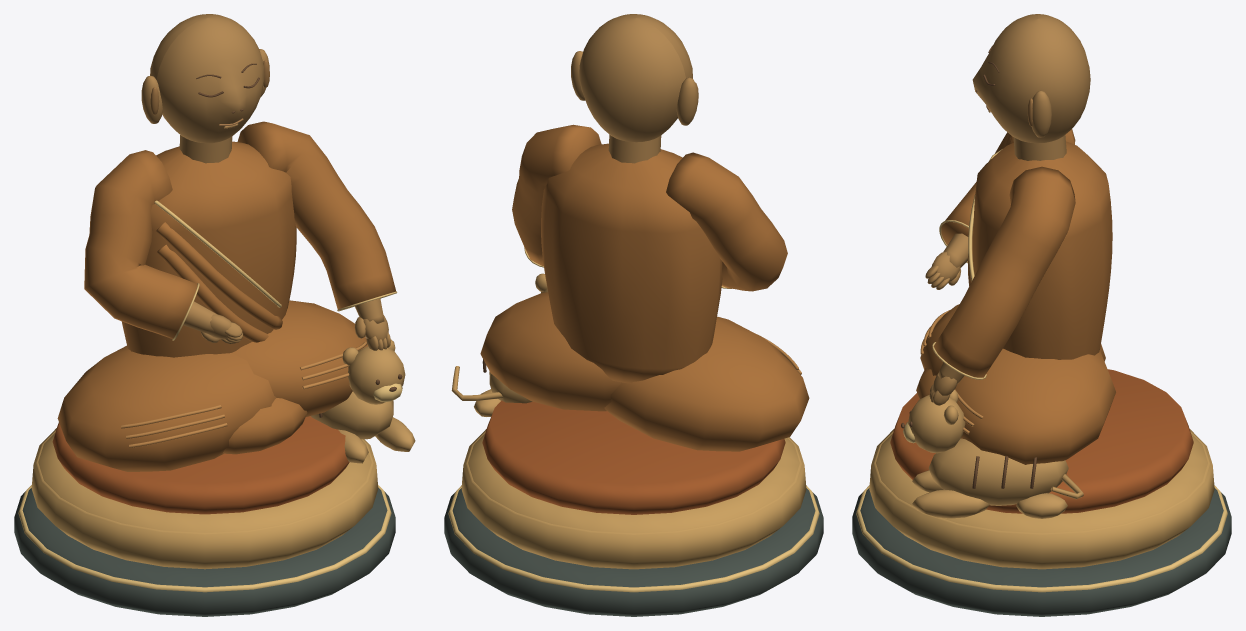
Rendered from arhat_02_lod1.glb.
3 renders of one model, left to right at view 1: azimuth 30°, elevation 25°; view 2: azimuth 150°, elevation 25°; view 3: azimuth 270°, elevation 25°, orthographic.
Visible parts, largest first — view 1: arhat_02_ArhatDrapery, arhat_02_AntiqueGold, arhat_02_CarvedPlinth, arhat_02_WarmBronze, arhat_02_SaffronDrapery, arhat_02_AnimalBronze, arhat_02_RaisedGoldBorders, arhat_02_DraperyFoldHighlights; view 2: arhat_02_ArhatDrapery, arhat_02_SaffronDrapery, arhat_02_AntiqueGold, arhat_02_CarvedPlinth, arhat_02_WarmBronze, arhat_02_RaisedGoldBorders, arhat_02_AnimalBronze; view 3: arhat_02_ArhatDrapery, arhat_02_AntiqueGold, arhat_02_CarvedPlinth, arhat_02_WarmBronze, arhat_02_SaffronDrapery, arhat_02_AnimalBronze, arhat_02_RaisedGoldBorders, arhat_02_SculptedCreases.
Boxes of the visible parts, <box> form: arhat_02_ArhatDrapery: <box>57,121,396,471</box>; arhat_02_AntiqueGold: <box>31,428,378,569</box>; arhat_02_CarvedPlinth: <box>14,488,395,616</box>; arhat_02_WarmBronze: <box>141,14,390,350</box>; arhat_02_SaffronDrapery: <box>52,416,349,514</box>; arhat_02_AnimalBronze: <box>311,339,415,463</box>; arhat_02_RaisedGoldBorders: <box>18,200,402,592</box>; arhat_02_DraperyFoldHighlights: <box>121,341,367,447</box>; arhat_02_ArhatDrapery: <box>480,124,809,451</box>; arhat_02_SaffronDrapery: <box>482,400,785,514</box>; arhat_02_AntiqueGold: <box>461,429,806,569</box>; arhat_02_CarvedPlinth: <box>444,488,823,616</box>; arhat_02_WarmBronze: <box>571,14,698,163</box>; arhat_02_RaisedGoldBorders: <box>448,247,819,592</box>; arhat_02_AnimalBronze: <box>451,273,547,416</box>; arhat_02_ArhatDrapery: <box>916,129,1115,464</box>; arhat_02_AntiqueGold: <box>869,429,1214,569</box>; arhat_02_CarvedPlinth: <box>852,488,1231,616</box>; arhat_02_WarmBronze: <box>925,14,1090,405</box>; arhat_02_SaffronDrapery: <box>890,369,1193,513</box>; arhat_02_AnimalBronze: <box>908,389,1083,518</box>; arhat_02_RaisedGoldBorders: <box>856,149,1227,592</box>; arhat_02_SculptedCreases: <box>901,45,1037,488</box>.
Bounding box in the file's own units: 0.9454 × 1.4 × 0.92.
